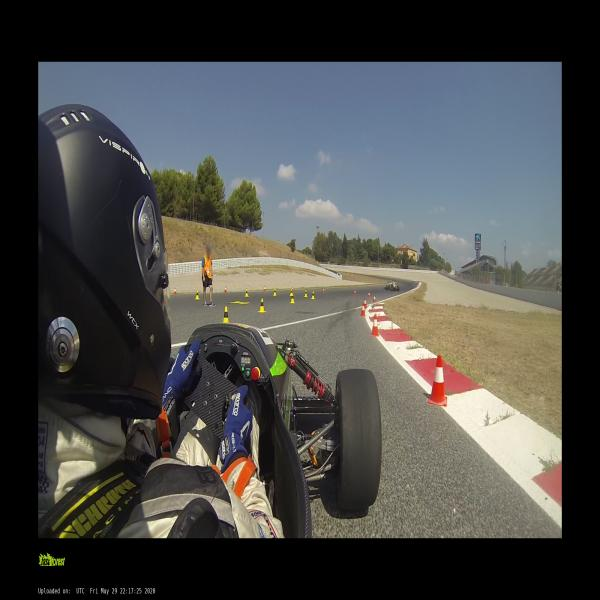orange_cone: (427, 354, 448, 406), (369, 315, 379, 336), (361, 303, 366, 316), (363, 298, 367, 308), (373, 294, 376, 302), (368, 291, 370, 298), (174, 288, 176, 294), (264, 286, 266, 292), (354, 289, 356, 295), (323, 288, 325, 293), (225, 286, 226, 293)
yellow_cone: (223, 307, 229, 323), (260, 298, 264, 312), (290, 293, 294, 303), (311, 291, 315, 299), (196, 290, 199, 300), (290, 288, 293, 296), (305, 289, 307, 297), (274, 288, 276, 296), (246, 289, 248, 297)
